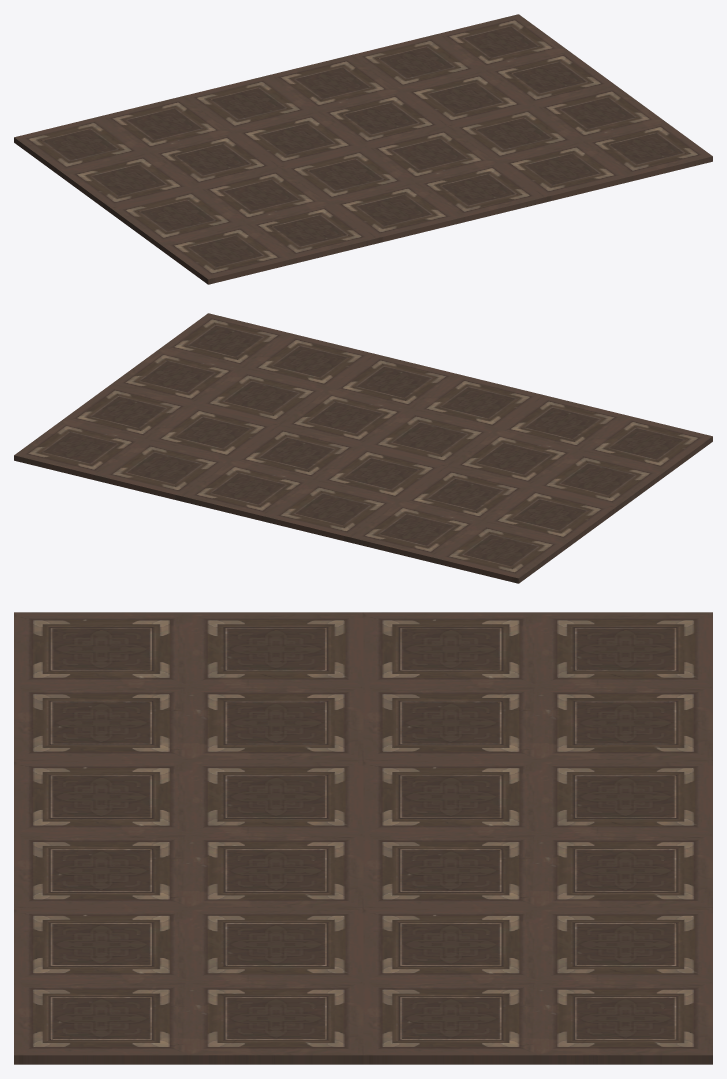
Rendered from Homeworld_Interior_Ly_Room_B_Ceiling_01_Vo.fbx.
3 views of the same model, one above another, from view 1: azimuth 30°, elevation 25°; view 2: azimuth 150°, elevation 25°; view 3: azimuth 270°, elevation 25° (orthographic). The views are drawn at different scales.
Visible parts, largest first — view 1: Homeworld_Interior_Ly_Room_B_Ceiling_01_Vo; view 2: Homeworld_Interior_Ly_Room_B_Ceiling_01_Vo; view 3: Homeworld_Interior_Ly_Room_B_Ceiling_01_Vo.
Part boxes in pixels (<box>): Homeworld_Interior_Ly_Room_B_Ceiling_01_Vo: <box>14,14,712,284</box>; Homeworld_Interior_Ly_Room_B_Ceiling_01_Vo: <box>14,313,712,583</box>; Homeworld_Interior_Ly_Room_B_Ceiling_01_Vo: <box>14,612,712,1064</box>.
Bounding box in the file's own units: 15 × 0.15 × 10.
